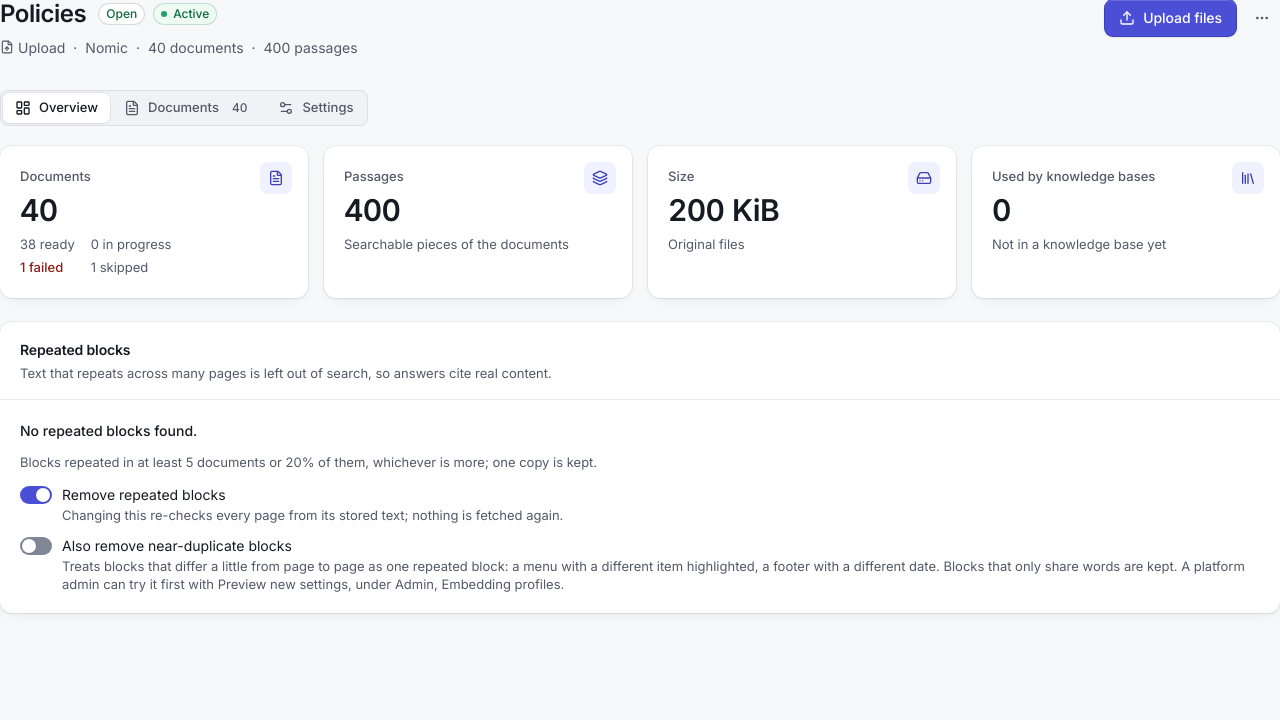
Test: bulk Delete (BU2-11) › names the documents it deletes
Click the tab "Documents 40". click: point(188, 108)
box: [112,93,264,123]
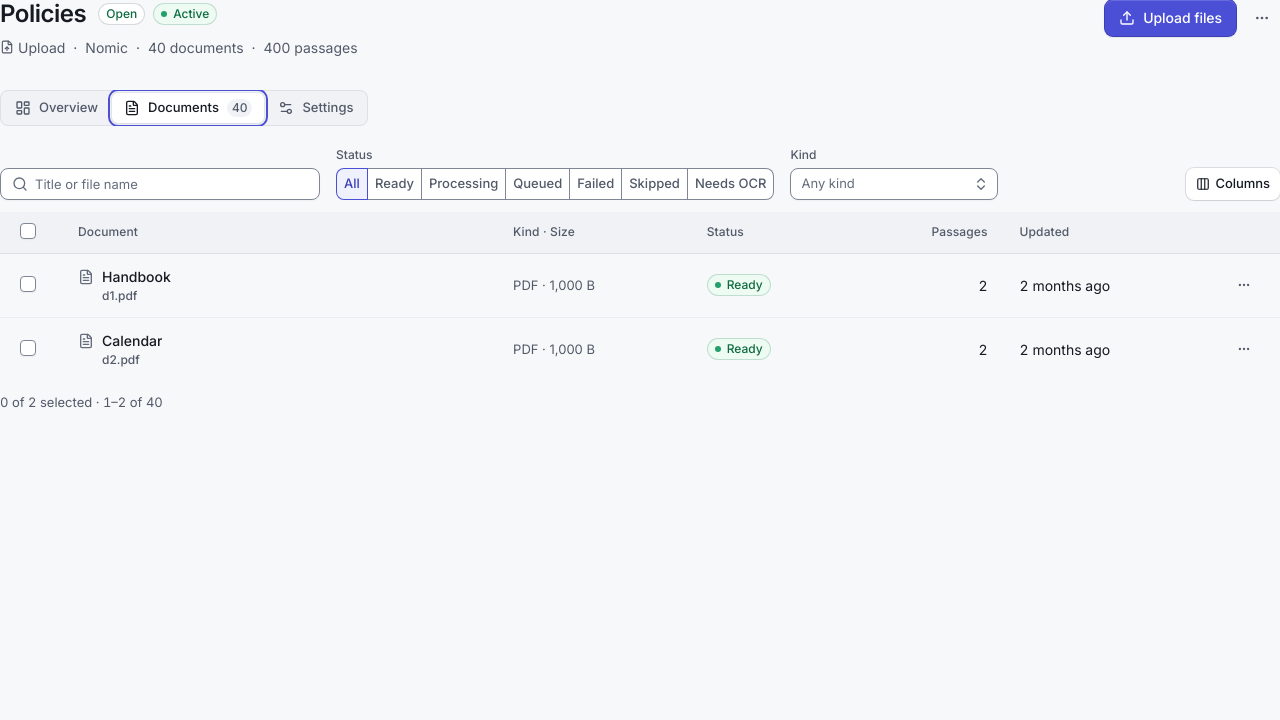
Click the 2nd checkbox named "Select Handbook". click: point(28, 284)
box: [20,276,36,292]
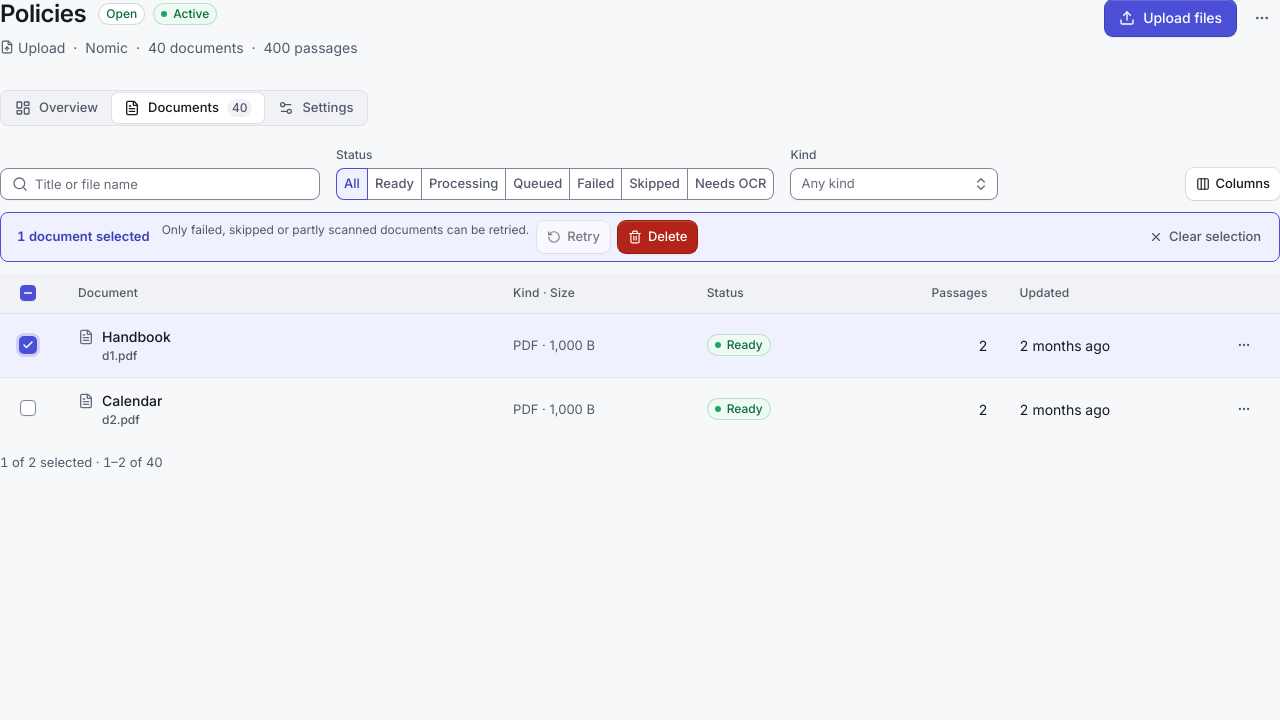
Click the 3rd checkbox named "Select Calendar". click: point(28, 408)
box: [20,400,36,416]
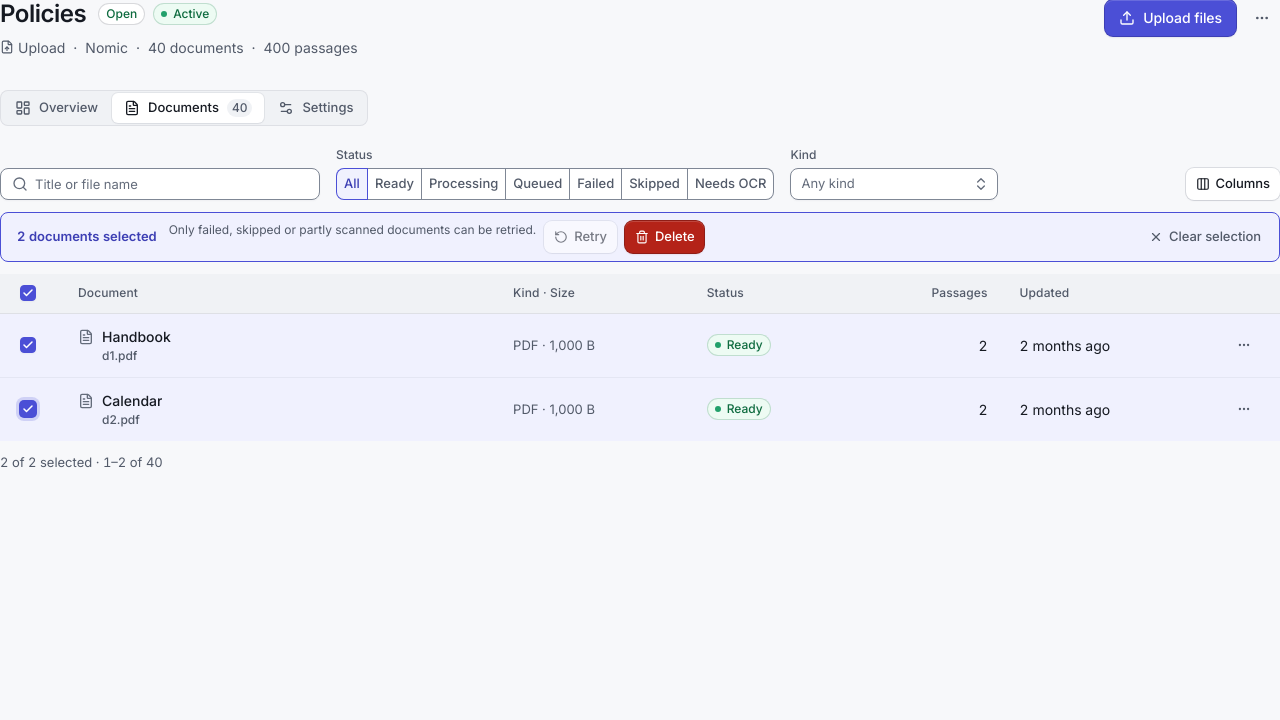
Click the button "Delete". click: point(665, 237)
box: [625,221,704,253]
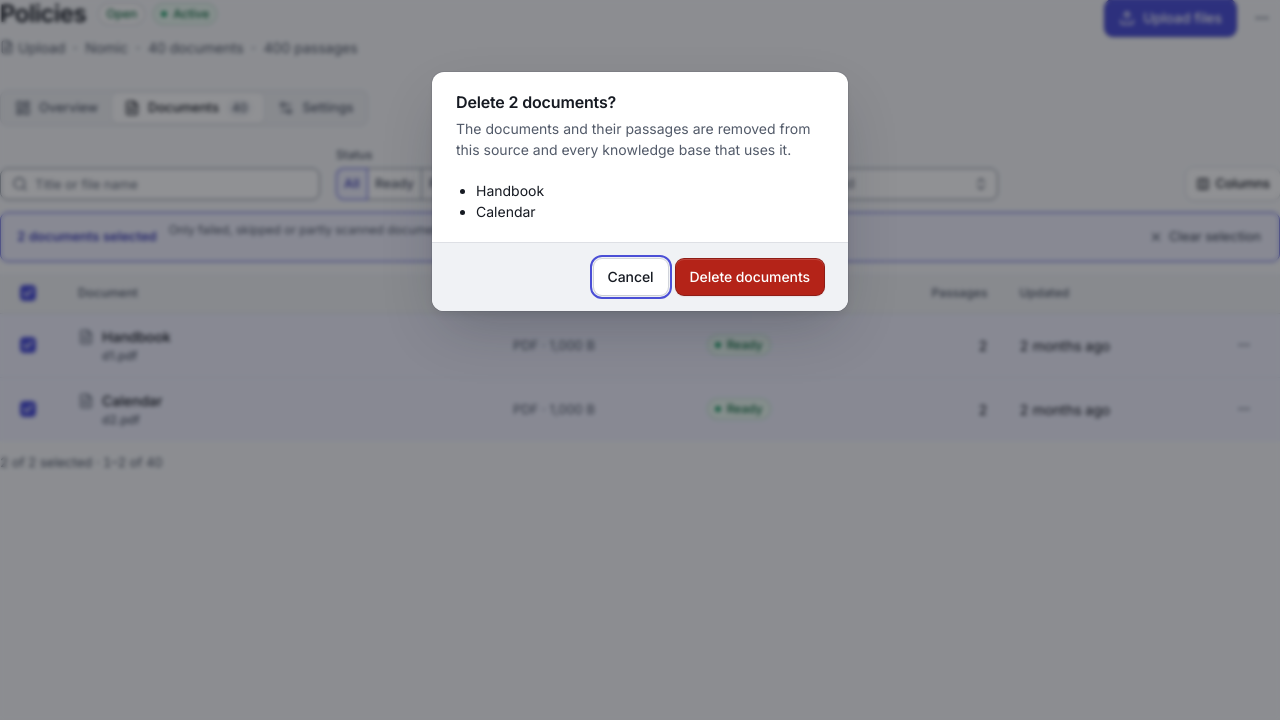
Now the list items read "Handbook", "Calendar", in this order, box [476,182,544,199]; [476,203,536,220]
